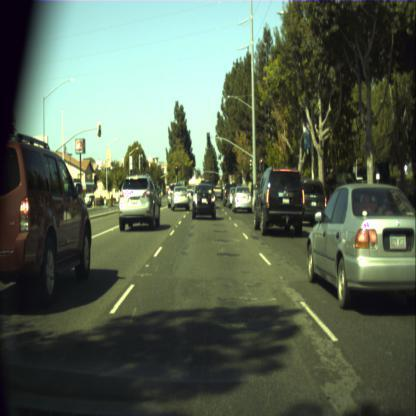Red: (206, 132, 210, 144), (174, 164, 178, 172), (260, 158, 262, 168)
